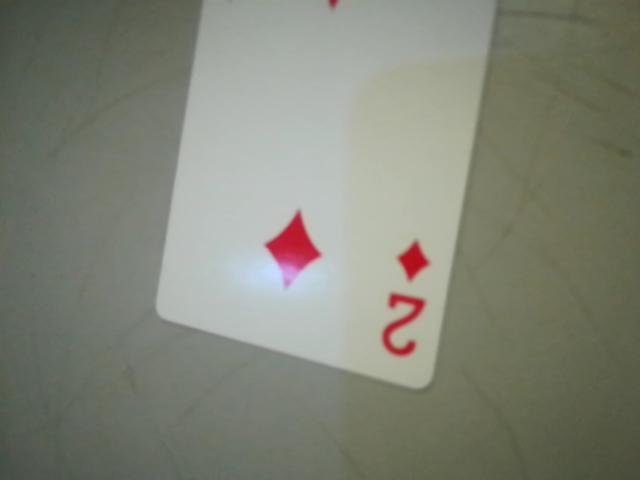fk 2: (366, 227, 444, 375)
